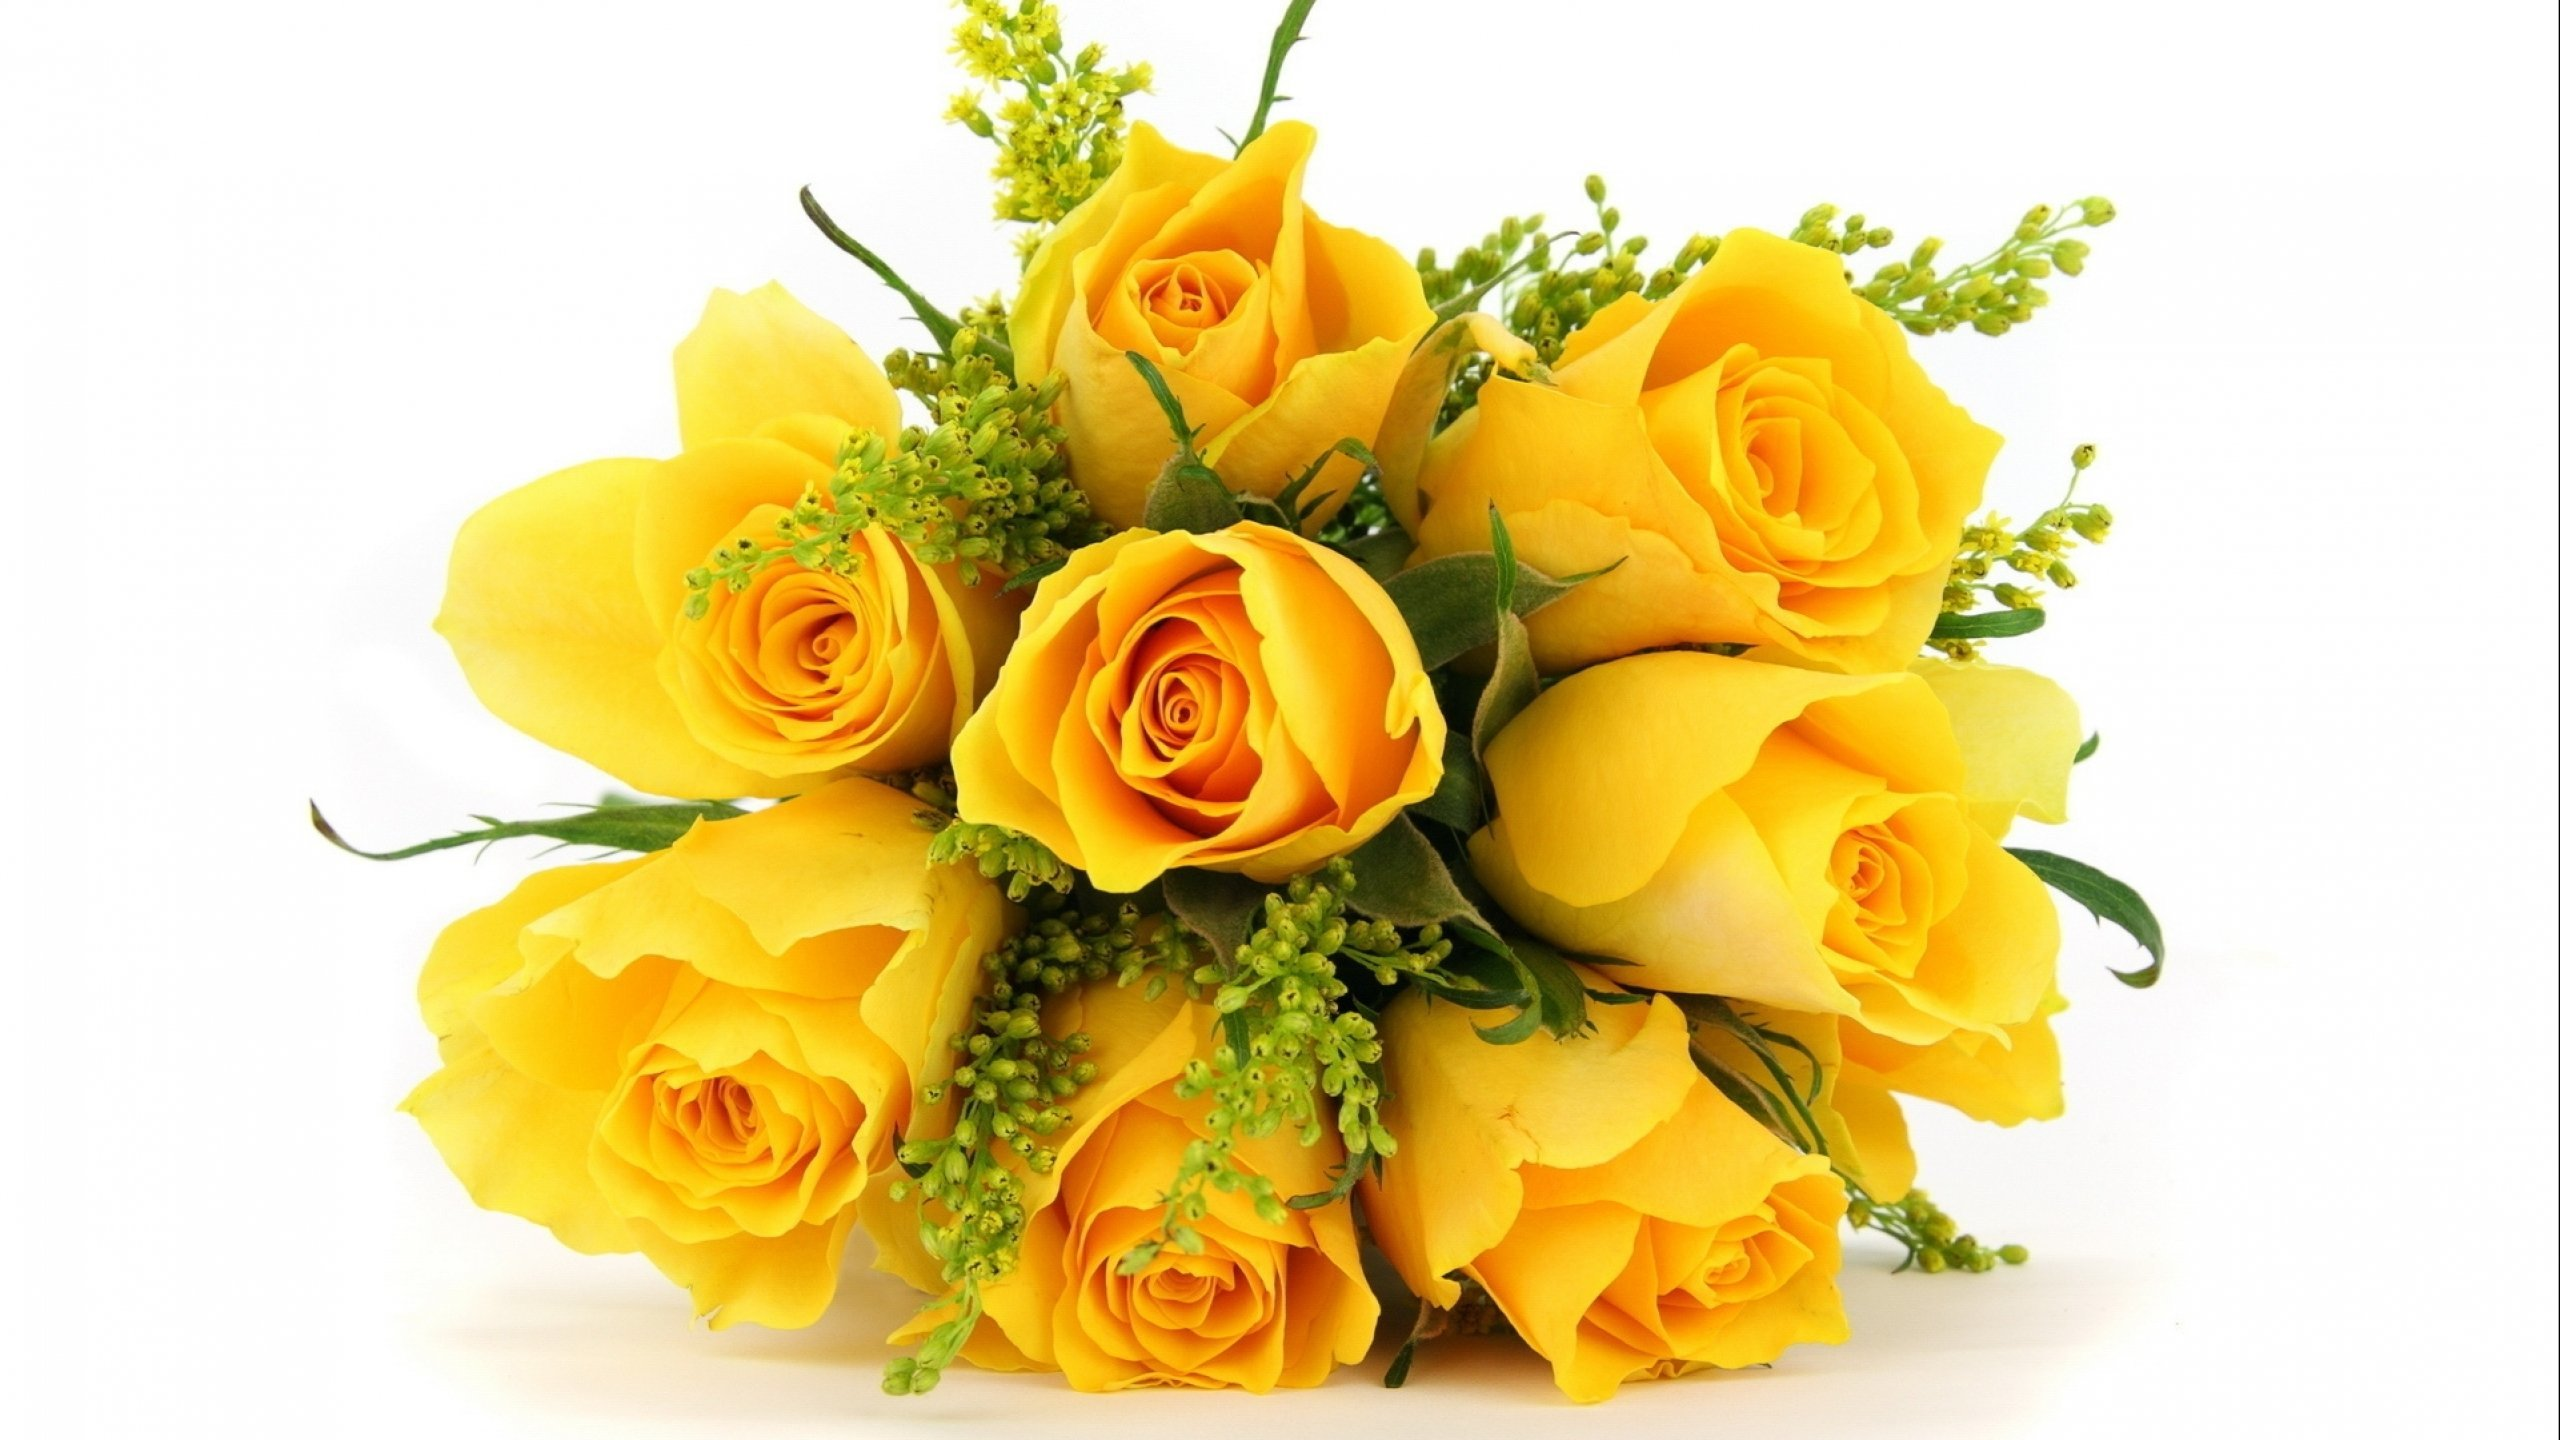Rose: (433, 832, 964, 1340), (484, 331, 986, 791), (1445, 239, 1975, 659), (1473, 663, 2034, 1029), (1380, 1000, 1843, 1378), (981, 969, 1371, 1396), (972, 533, 1435, 860), (1016, 134, 1407, 508)
